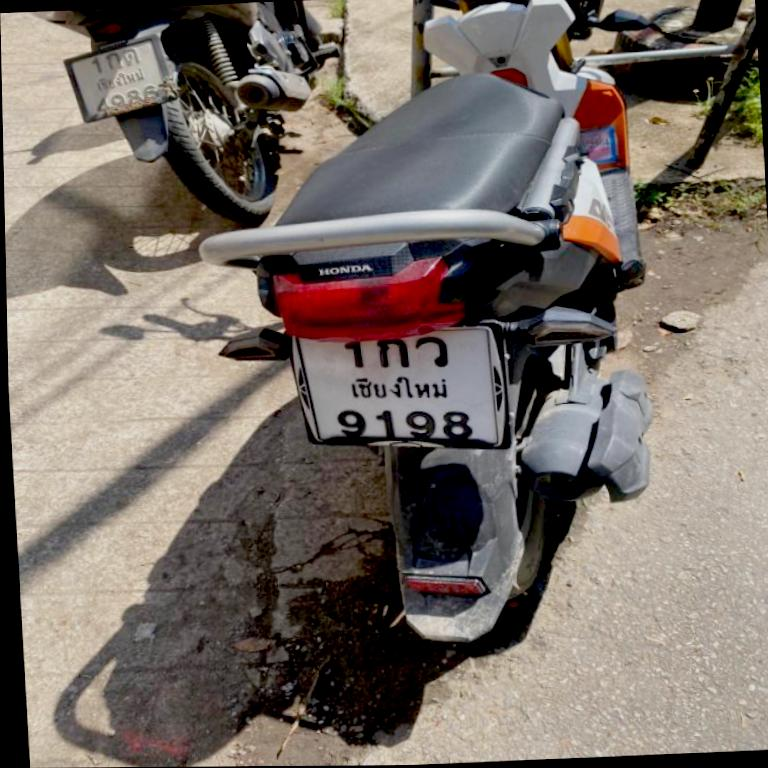license plate: (293, 327, 506, 447), (65, 39, 173, 121)
